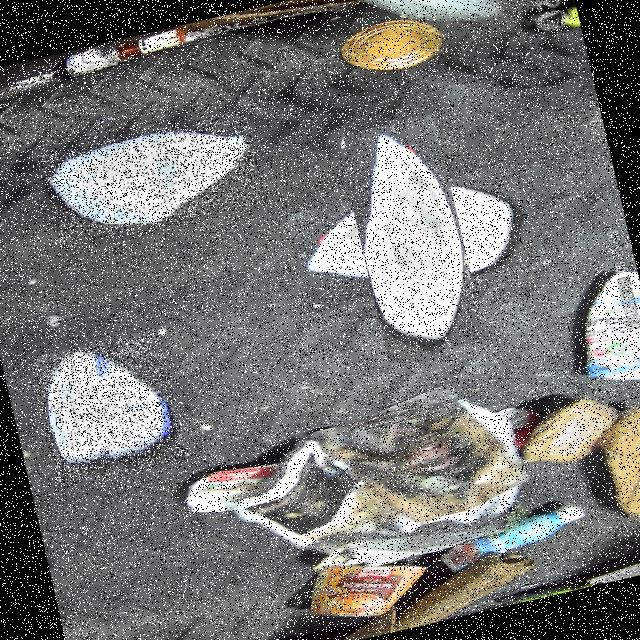milk-jug: (311, 137, 511, 337), (38, 108, 266, 248), (30, 330, 186, 487)
